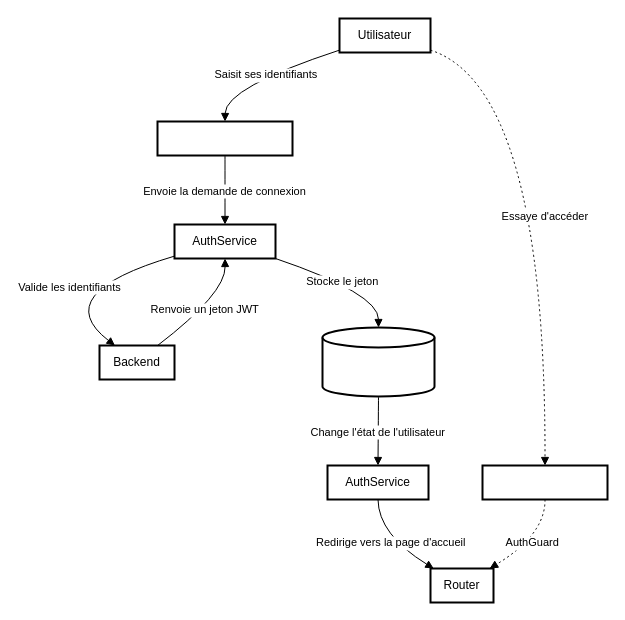
The diagram is 625 pixels wide and 620 high, and some of its shapes have lost their labels. The shapes that lost their labels are listed below. From the top down, each one's centre as x and y in pixels, then its label:
At point (224, 138): "LoginComponent".
At point (378, 361): "Local Storage".
At point (544, 482): "Route protégée".
